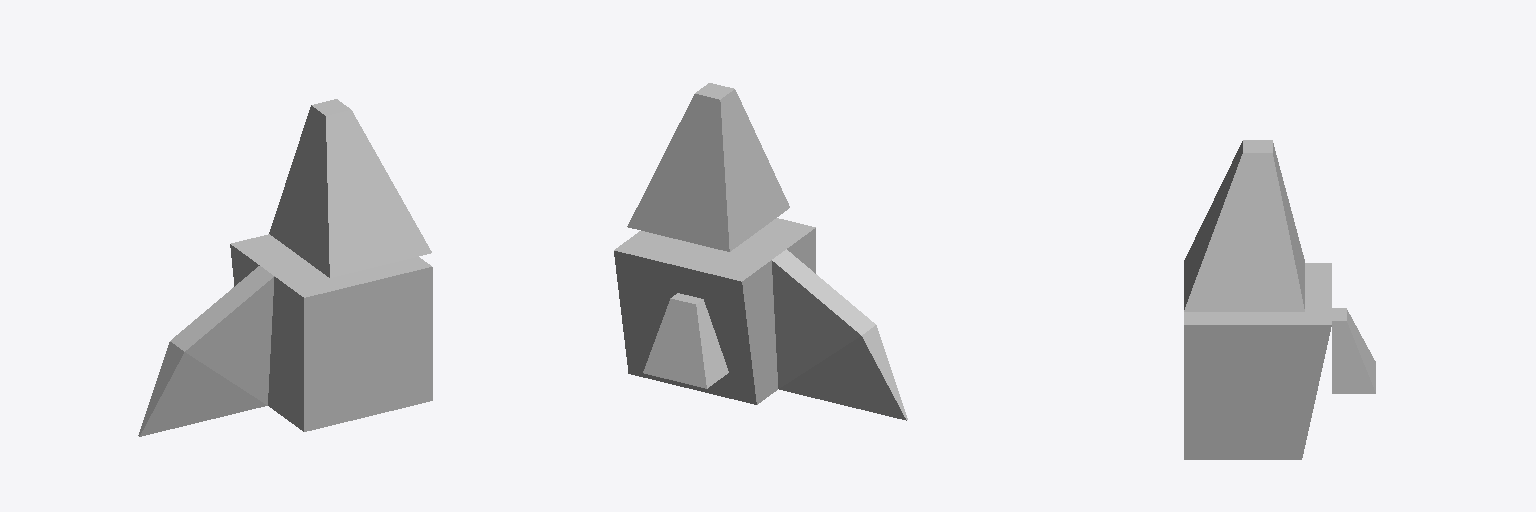
File: thing1+y-z.obj
3 renders of one model, left to right at view 1: azimuth 30°, elevation 25°; view 2: azimuth 150°, elevation 25°; view 3: azimuth 270°, elevation 25°, orthographic.
Visible parts, largest first — view 1: Cube; view 2: Cube; view 3: Cube.
Part boxes in pixels (left/top/right/bottom): Cube: left=138, top=99, right=432, bottom=436; Cube: left=614, top=83, right=907, bottom=420; Cube: left=1184, top=140, right=1375, bottom=459.
Bounding box in the file's own units: 1 × 1.05 × 0.65.